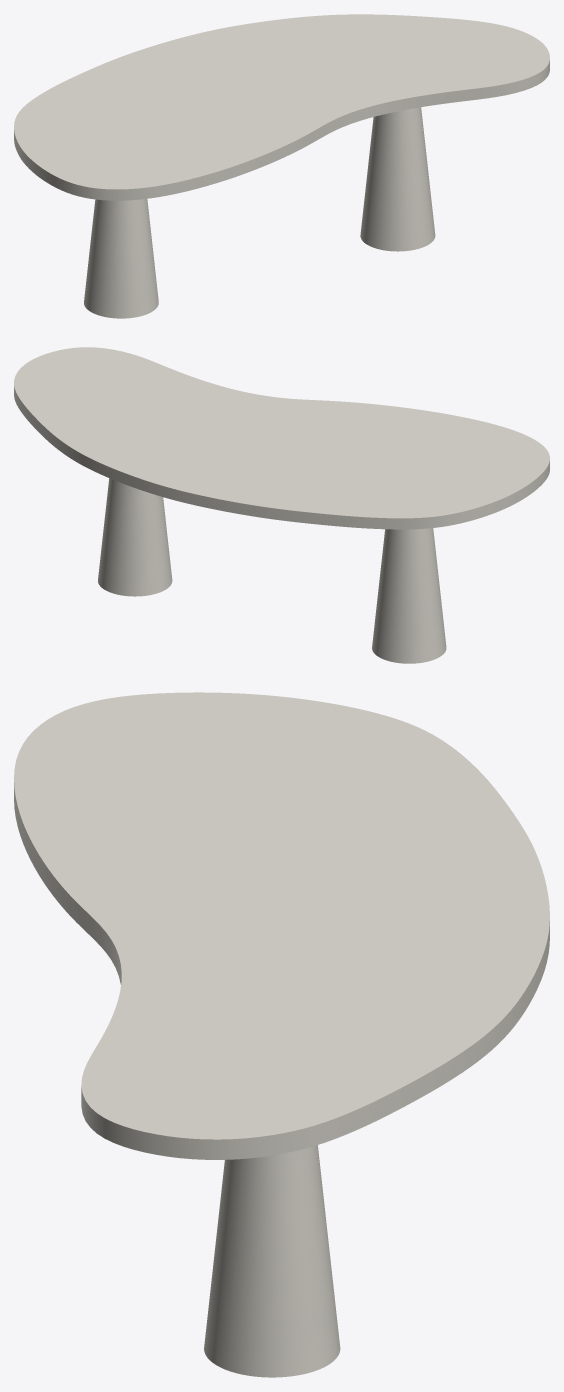
File: pale_leaf1_standard_pebble.glb
The picture shows the model from 3 angles, top to bottom: view 1: azimuth 30°, elevation 25°; view 2: azimuth 150°, elevation 25°; view 3: azimuth 270°, elevation 25°; orthographic projection. The views are drawn at different scales.
Parts seen in each view (by area): view 1: standard_leaf1, pebble; view 2: standard_leaf1, pebble; view 3: standard_leaf1, pebble.
Part boxes in pixels (x1,y1,x2,y2): standard_leaf1: (14, 14, 549, 200); pebble: (84, 107, 435, 318); standard_leaf1: (14, 347, 549, 529); pebble: (98, 478, 446, 663); standard_leaf1: (14, 692, 549, 1159); pebble: (204, 1145, 340, 1377).
Bounding box in the file's own units: 7.5 × 2.51 × 3.8.
Materials: 1 (1 with a texture image).
